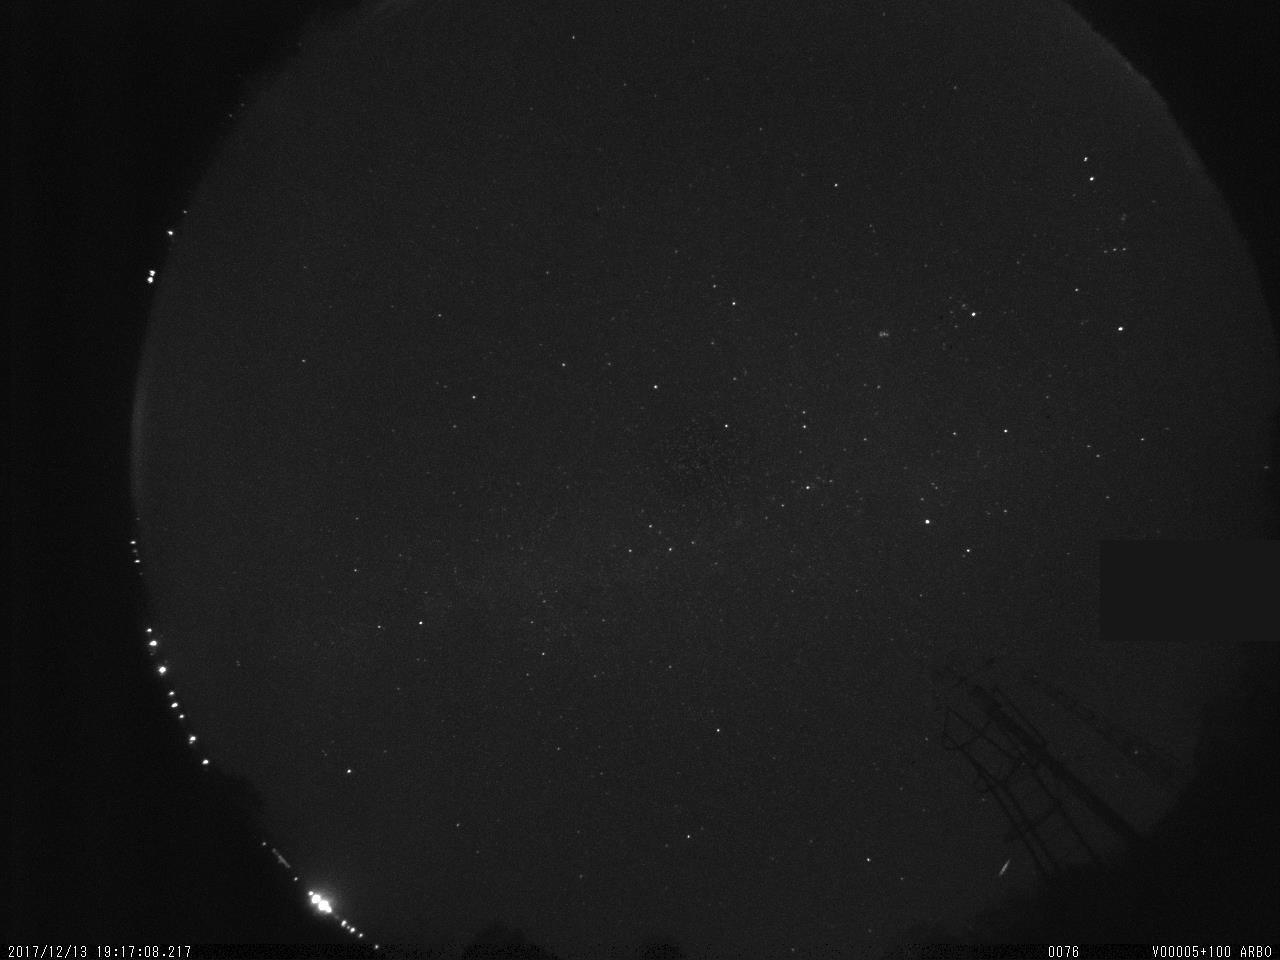Meteor: (994, 855, 1016, 881)
